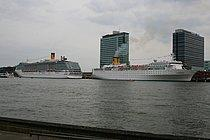Ship: (89, 56, 203, 86), (13, 50, 87, 82)
